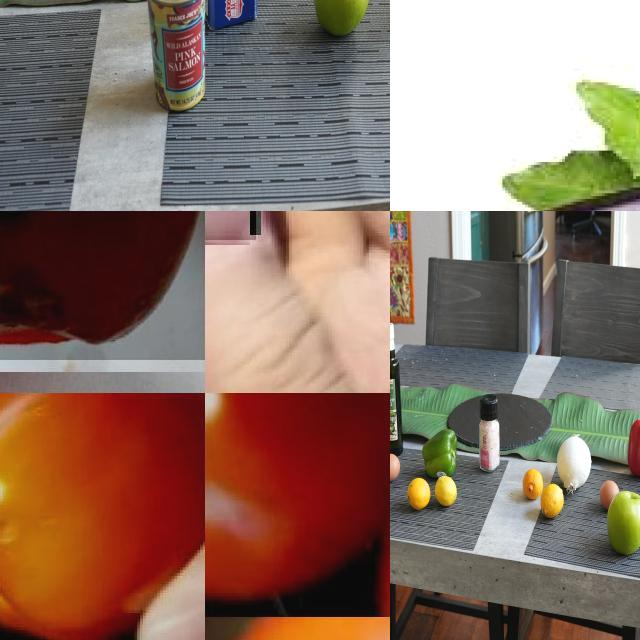bell_pepper: (423, 429, 462, 478), (623, 417, 640, 478)
egg: (598, 479, 622, 514), (391, 450, 403, 484)
onion: (557, 434, 594, 497)
tomato: (1, 394, 206, 640), (206, 394, 391, 617), (206, 530, 391, 640)
